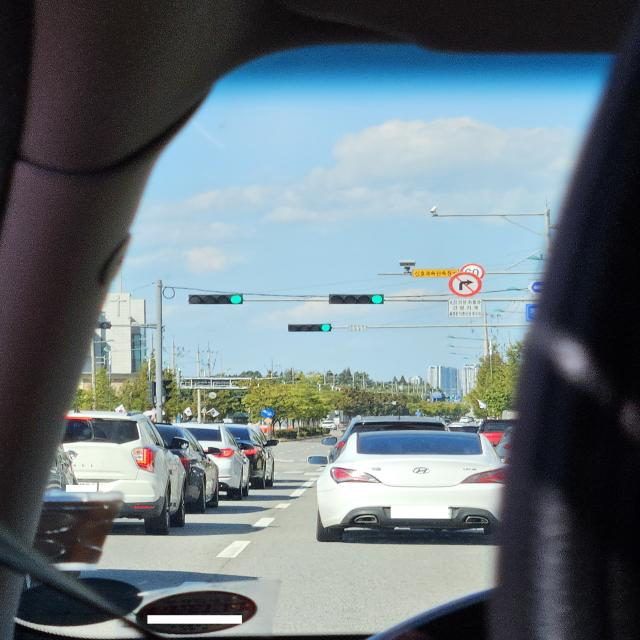Green Light: (370, 294, 384, 304), (229, 294, 242, 304), (321, 323, 332, 332)
